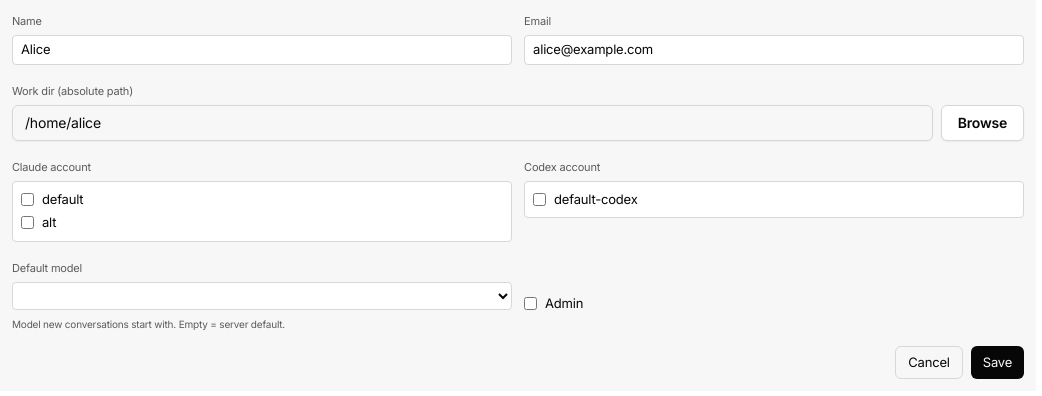
Scenario: AdminUsersEditRow › only offers the default radio for accounts that are granted
This screenshot has width=1042, height=396.
Click the checkbox with test id "edit-account-claude-alt" at (28, 223), box [21,216,34,229]
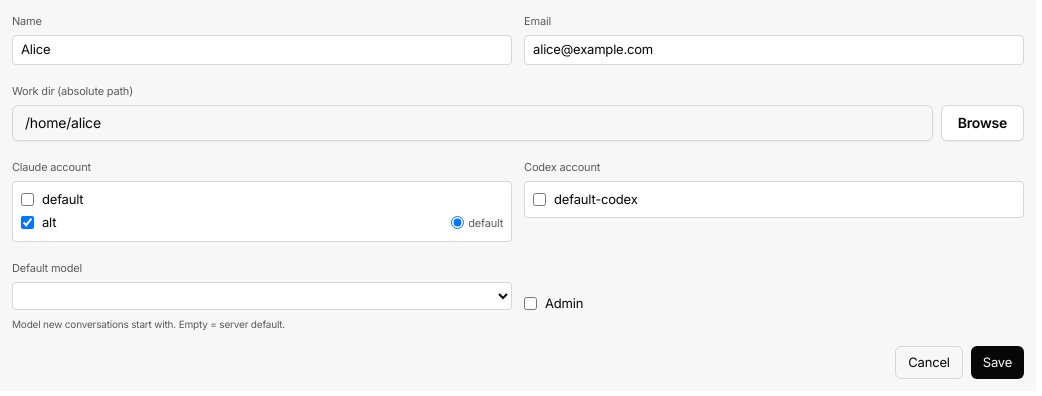
Now the radio button with test id "edit-default-account-claude-alt" is shown, box [451,216,464,229]
